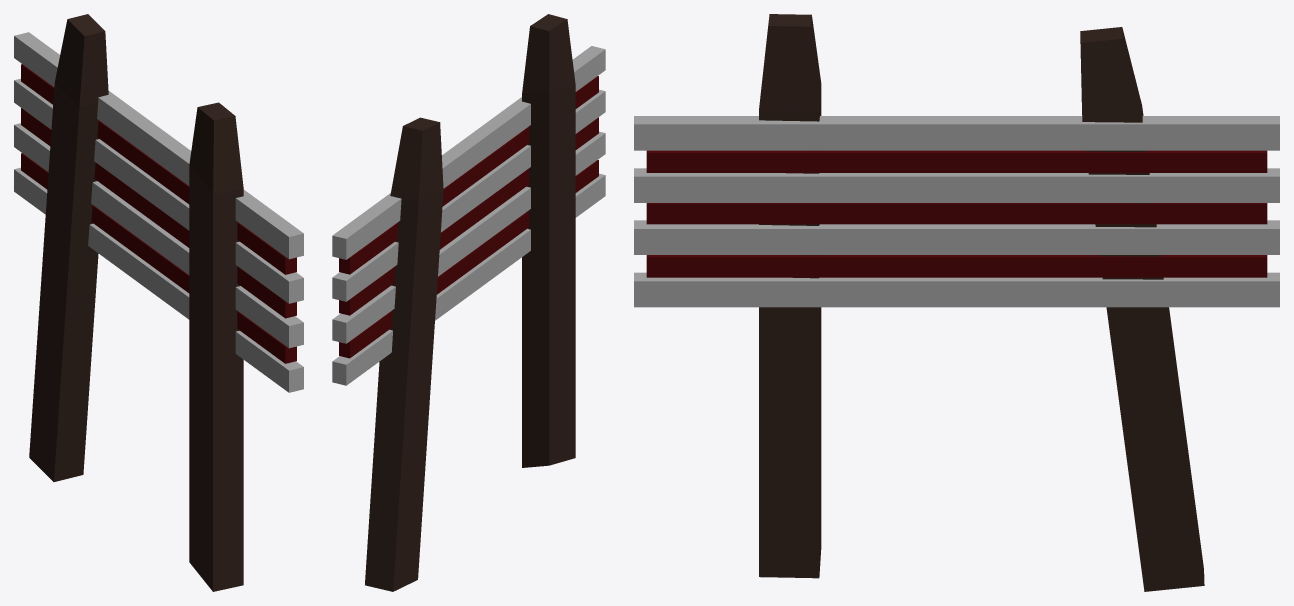
Rendered from znak_na_tory.fbx.
3 renders of one model, left to right at view 1: azimuth 30°, elevation 25°; view 2: azimuth 150°, elevation 25°; view 3: azimuth 270°, elevation 25°, orthographic. The views are drawn at different scales.
Parts seen in each view (by area): view 1: Cube.001; view 2: Cube.001; view 3: Cube.001.
Boxes of the visible parts, box(x1,y1,x2,y2) form: Cube.001: box(14, 14, 303, 591); Cube.001: box(332, 14, 605, 591); Cube.001: box(634, 14, 1279, 591).
Bounding box in the file's own units: 0.4959 × 6.14 × 6.4.
